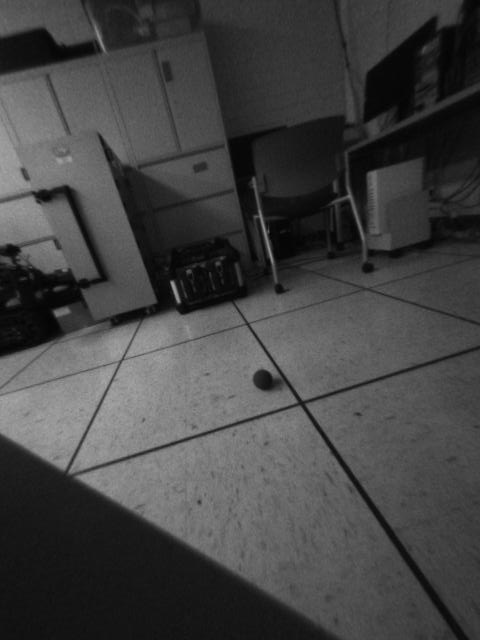dogtoy: (246, 364, 282, 396)
